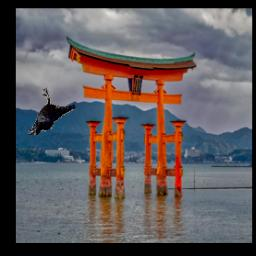Crow: (27, 87, 76, 136)
